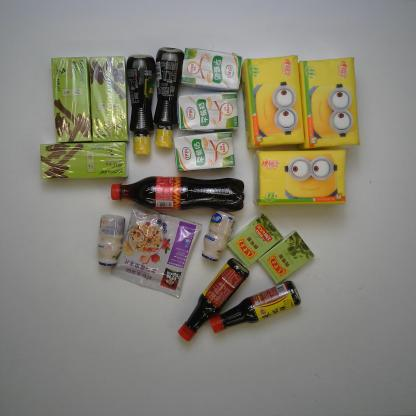Candy: (257, 228, 316, 285), (226, 212, 285, 268)
Drink: (109, 173, 246, 213)
Instant Drink: (110, 204, 204, 300), (48, 54, 92, 145), (88, 54, 130, 145), (39, 141, 129, 181)
Milk: (178, 47, 244, 91), (175, 91, 242, 134), (172, 130, 236, 173), (199, 209, 238, 264), (95, 214, 126, 269)
Seasoner: (175, 257, 252, 343), (209, 278, 303, 335), (123, 51, 158, 158), (152, 44, 186, 151)
Tissue: (239, 51, 306, 151), (298, 54, 361, 150), (252, 147, 350, 208)
